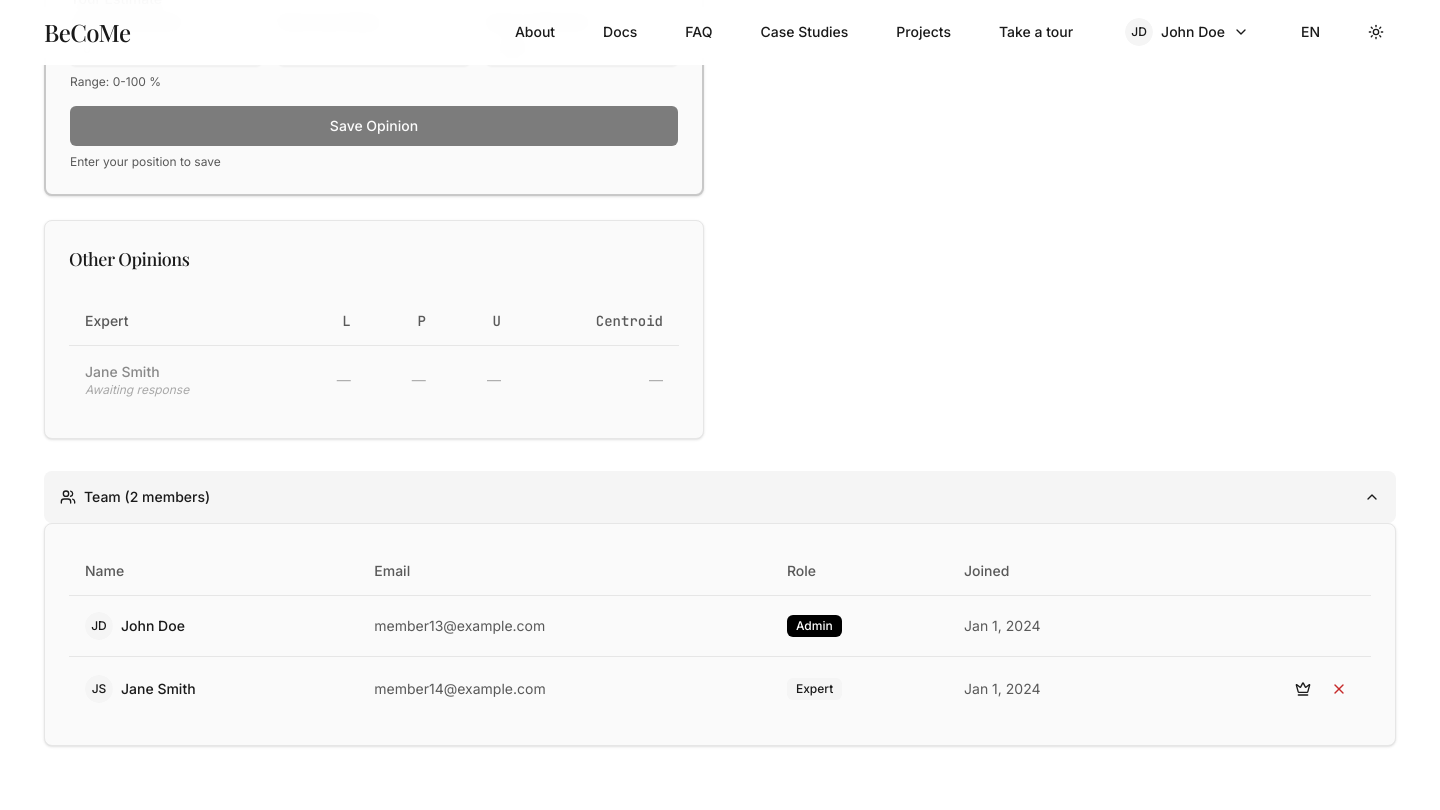
Test case: ProjectDetail - Member Profile Dialog › opens profile dialog when clicking a member row
The image size is (1440, 810).
(page scrolled)
Expected: the text "Jane Smith" is shown, [85,362,160,380]
What coordinates should you click on to do the following:
click the button with aria-label "view profile of jane smith"
I would click on:
 (158, 689)
Its box is [121,679,196,699].
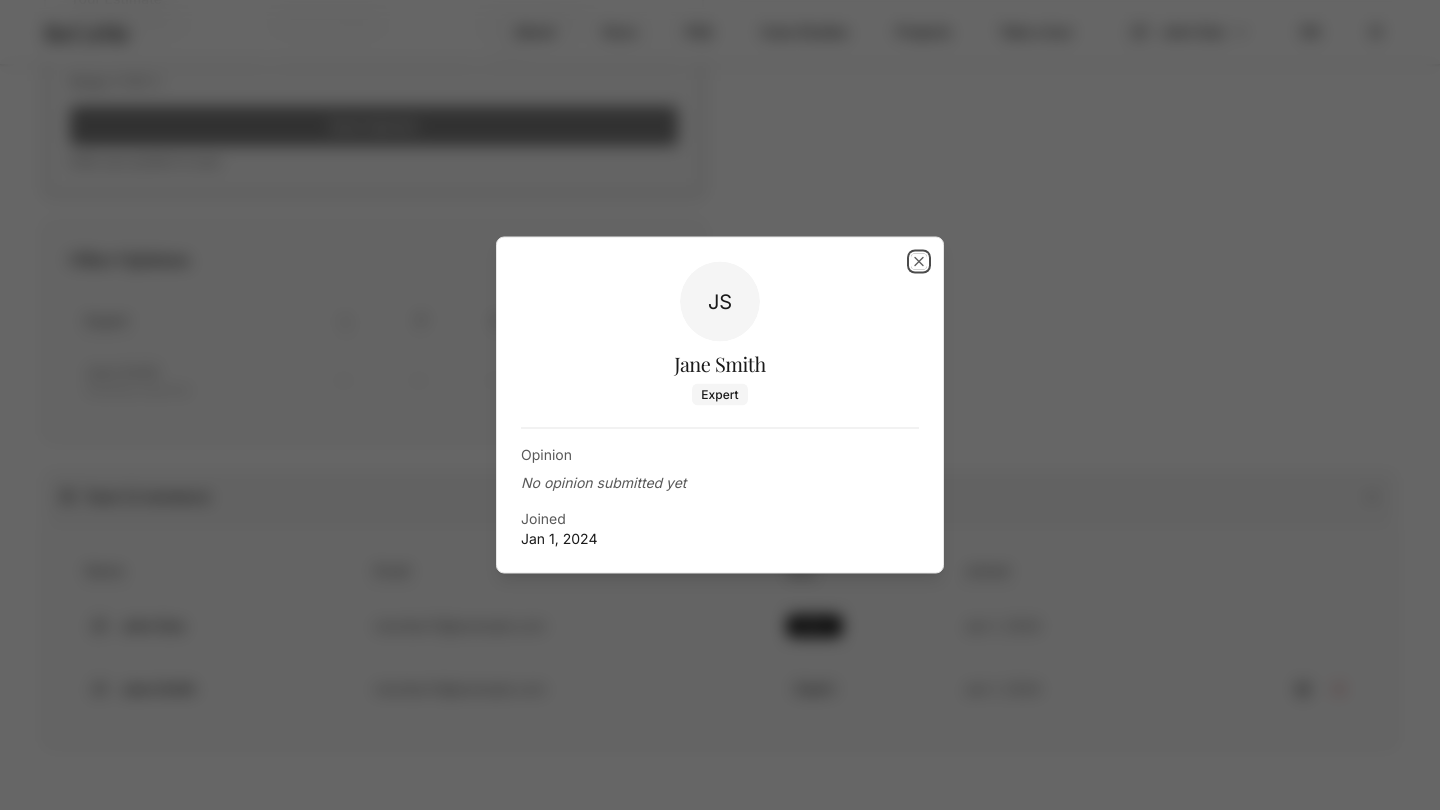
Expected: the dialog is shown, [496,236,944,574]
Expected: the heading "Jane Smith" is shown, [674,350,766,378]
